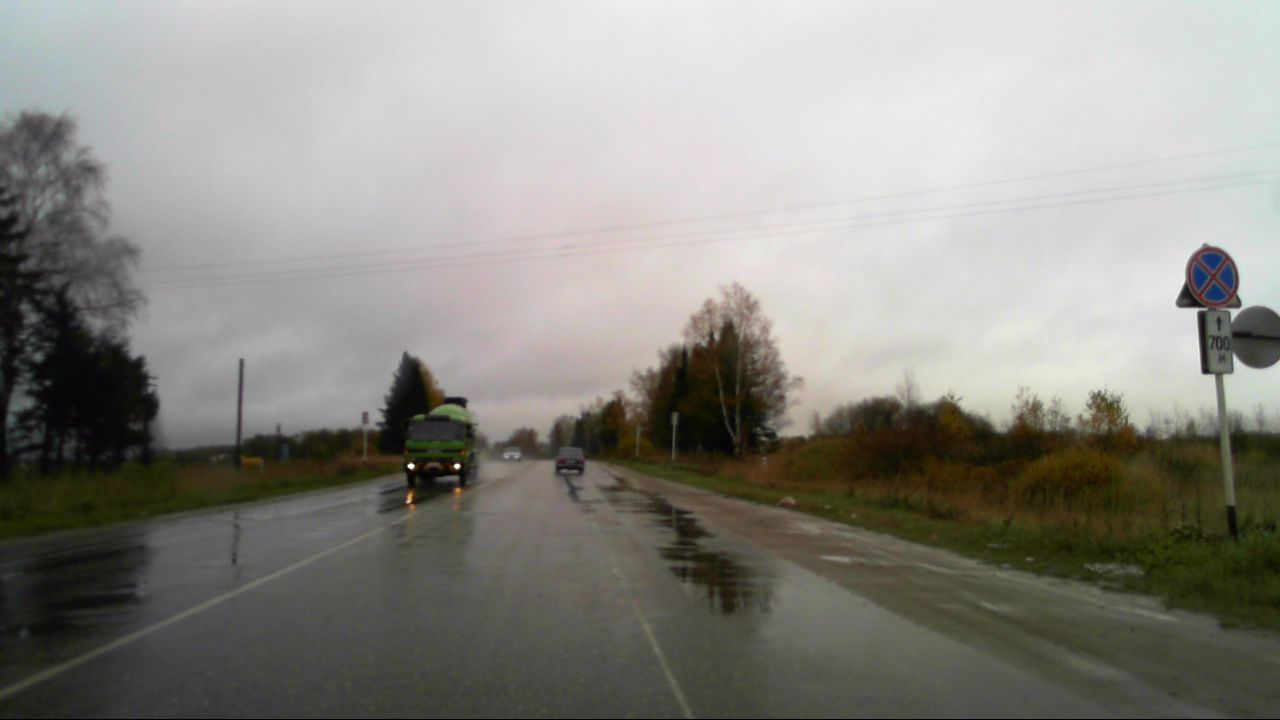No Parking: (1185, 246, 1240, 308)
